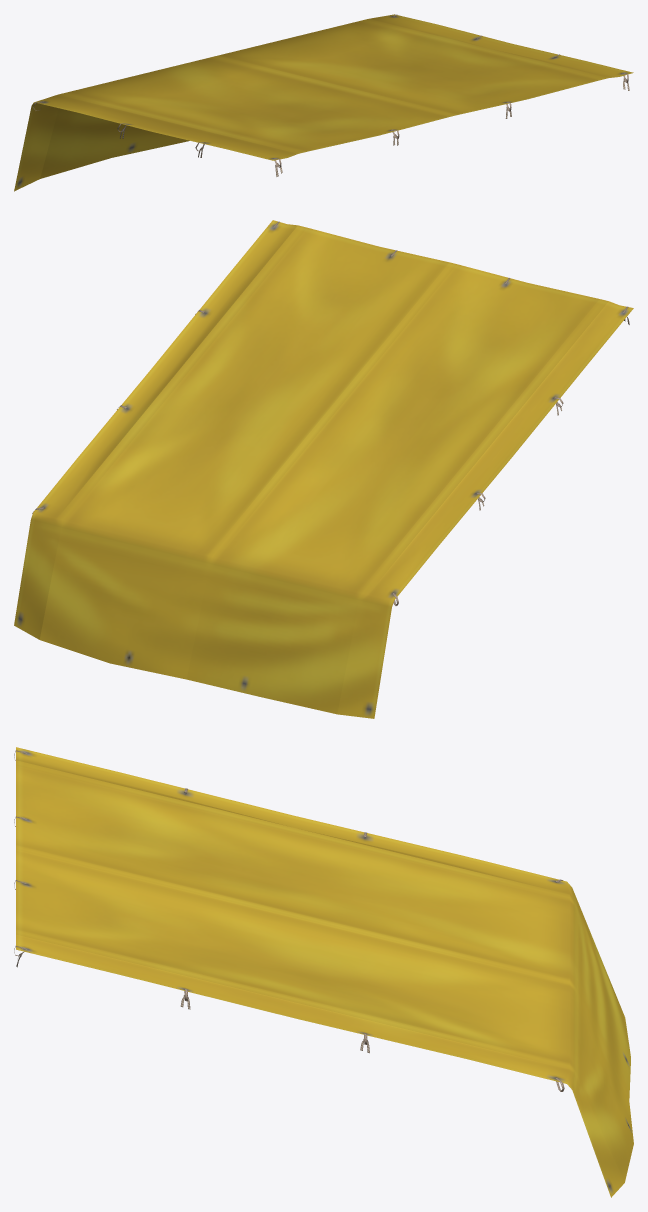
Rendered from jsf_Ceiling_s01_c05_t02.fbx.
3 renders of one model, top to bottom at view 1: azimuth 30°, elevation 25°; view 2: azimuth 150°, elevation 25°; view 3: azimuth 270°, elevation 25°, orthographic. The views are drawn at different scales.
Visible parts, largest first — view 1: jsf_Ceiling_s01_c05_t02; view 2: jsf_Ceiling_s01_c05_t02; view 3: jsf_Ceiling_s01_c05_t02.
Boxes of the visible parts, x1,y1,x2,y2 form: jsf_Ceiling_s01_c05_t02: (14,14,633,191); jsf_Ceiling_s01_c05_t02: (14,220,633,718); jsf_Ceiling_s01_c05_t02: (14,747,633,1197).
Bounding box in the file's own units: 184 × 106 × 234.
